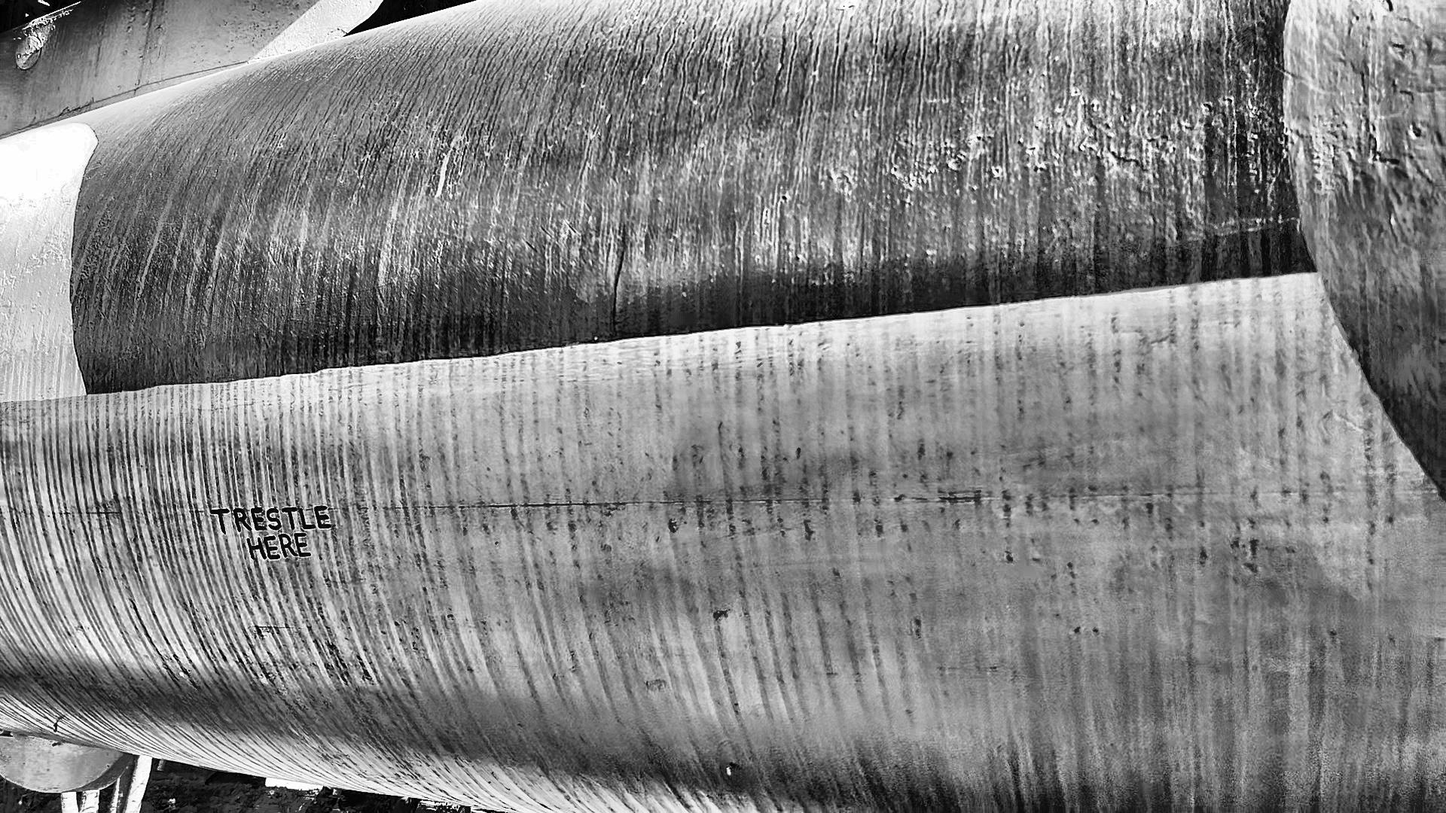crack: (612, 252, 624, 330)
paint-peel-off: (668, 520, 679, 534), (713, 610, 727, 620), (59, 107, 71, 115)
scratch: (267, 249, 282, 274), (939, 495, 981, 501), (523, 239, 539, 254), (540, 225, 555, 239), (564, 220, 578, 235)
